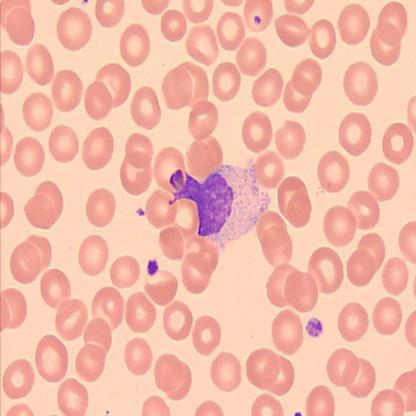Myelocyte: (169, 164, 270, 244)
